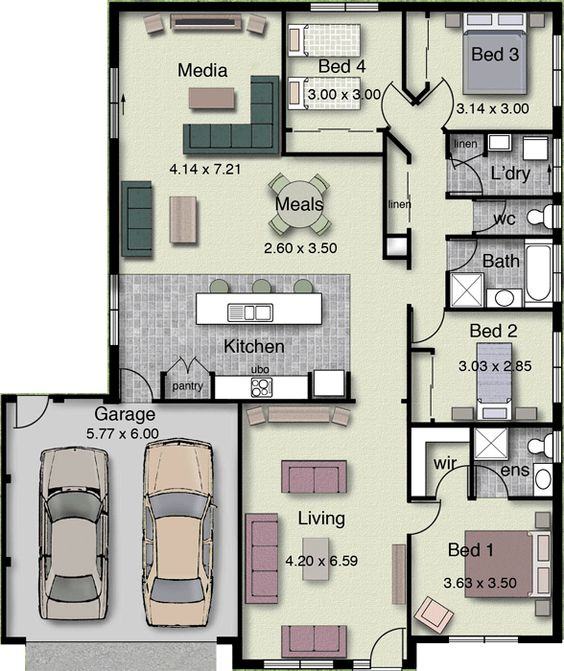door: (454, 158, 489, 194), (433, 75, 457, 120), (476, 200, 509, 230), (118, 365, 151, 395), (412, 501, 445, 531), (473, 464, 506, 494), (437, 465, 470, 495), (410, 314, 443, 344), (450, 238, 483, 268), (411, 500, 444, 530), (372, 627, 405, 657), (10, 405, 43, 435), (377, 80, 399, 115)
room: (108, 1, 301, 405), (108, 156, 412, 404), (236, 397, 412, 671), (407, 495, 564, 647), (401, 1, 564, 136), (281, 1, 406, 158), (406, 307, 562, 429), (406, 421, 564, 505), (444, 235, 564, 312), (443, 129, 564, 200), (444, 194, 564, 240)
window: (103, 64, 126, 142), (102, 271, 125, 349), (445, 628, 520, 649), (546, 31, 564, 111), (547, 328, 564, 409), (306, 1, 383, 18), (259, 656, 337, 671), (547, 134, 564, 196), (549, 239, 564, 305), (550, 427, 564, 466), (549, 201, 564, 233)
